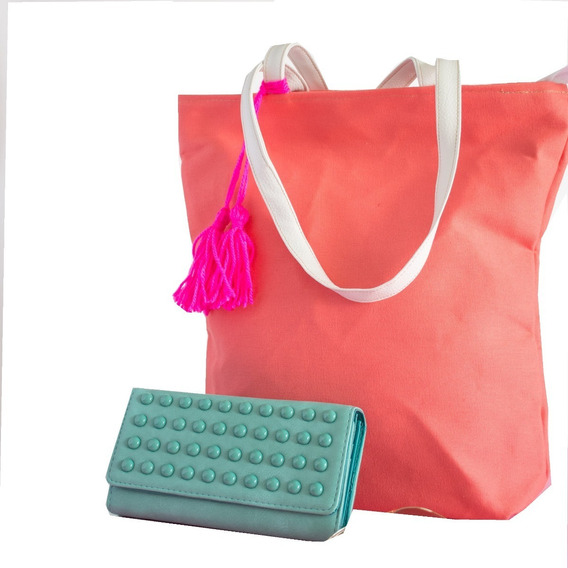cartera: (176, 41, 568, 522)
